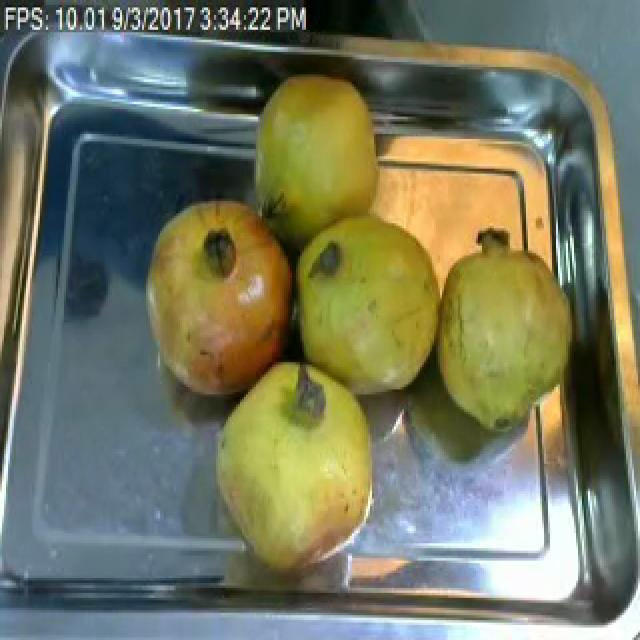fruit: (204, 350, 396, 590), (130, 186, 306, 414), (426, 216, 578, 446), (288, 203, 452, 402), (248, 67, 388, 231)
